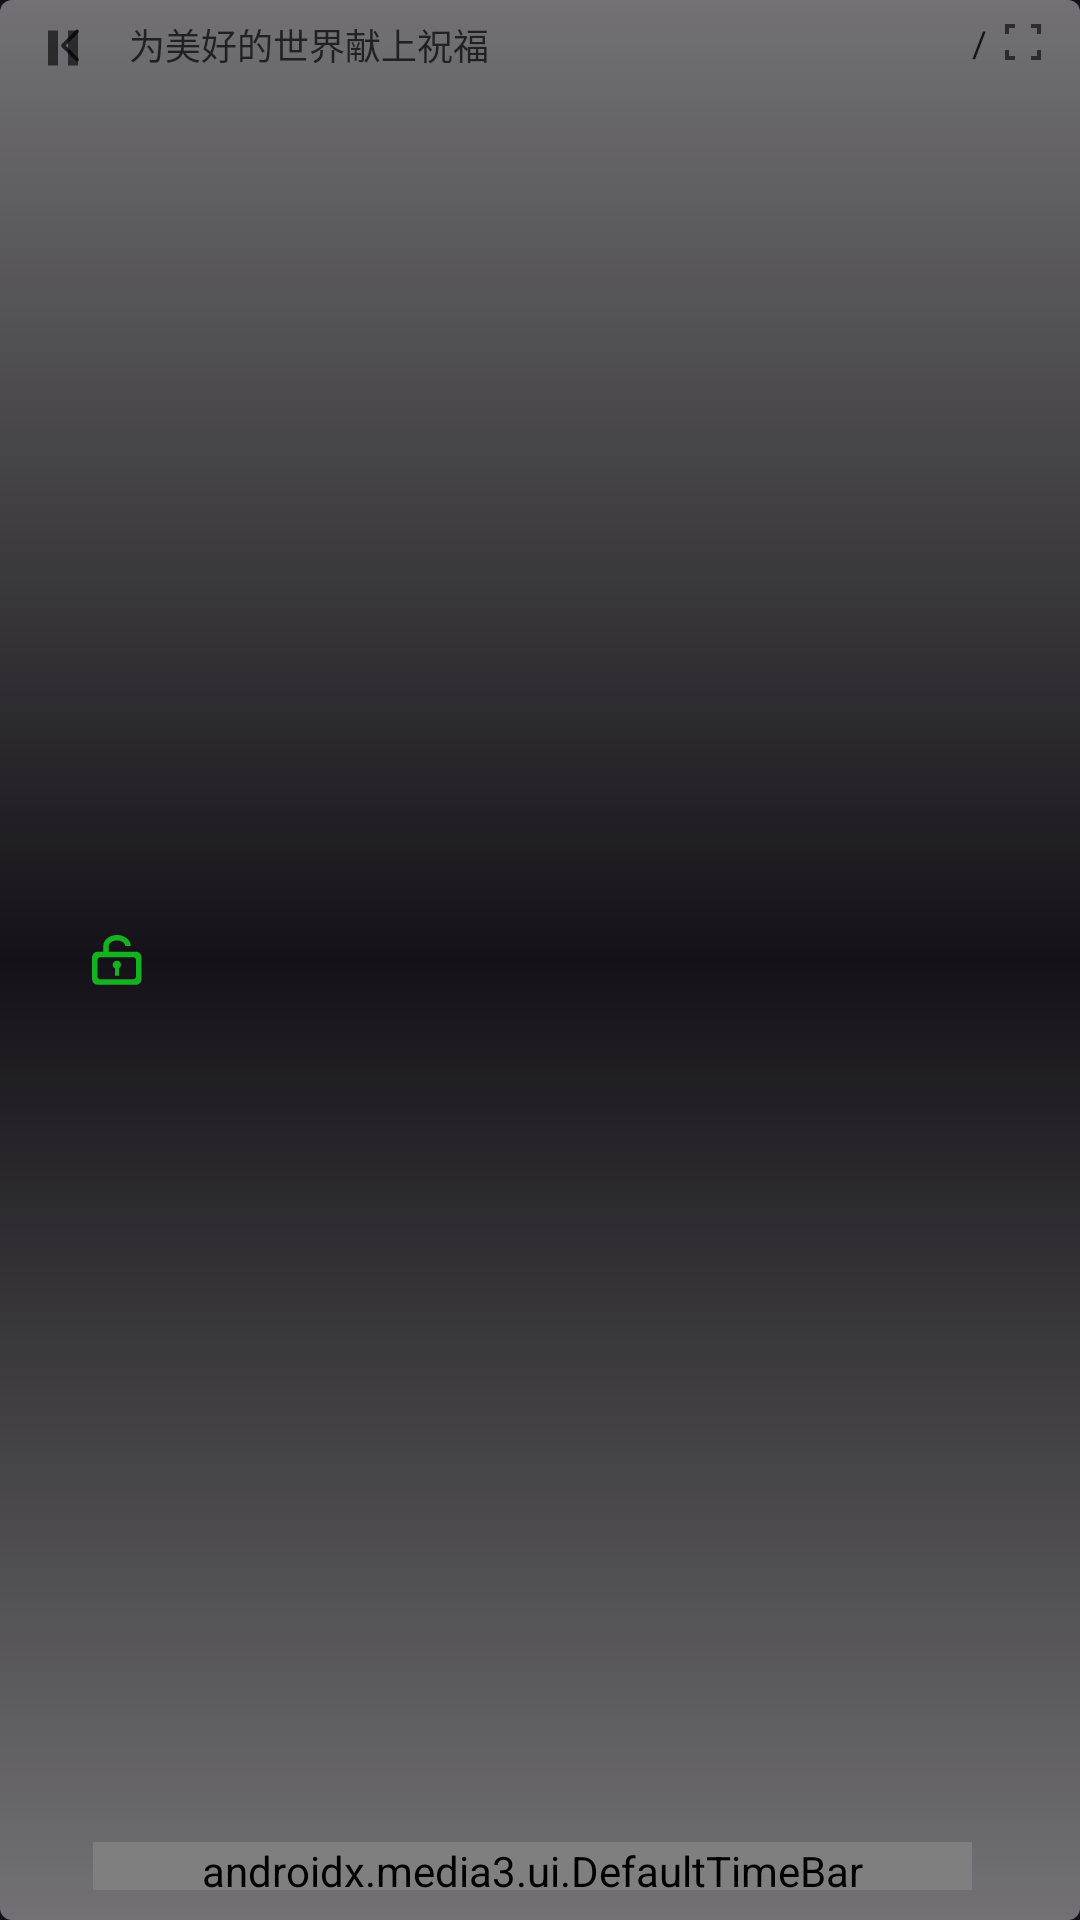

Icon bounding boxes for this 1080w x 1920h phone screenshot, format detection(x1, y1, x2, y2):
fullscreen: detection(1005, 24, 1041, 60)
lock status: detection(92, 935, 142, 985)
